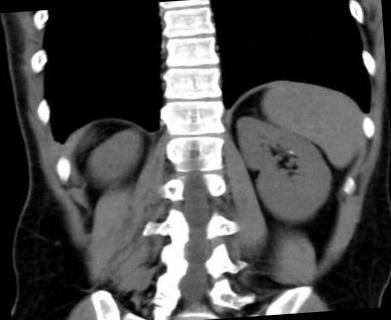Tas_Var: (287, 148, 296, 156)
